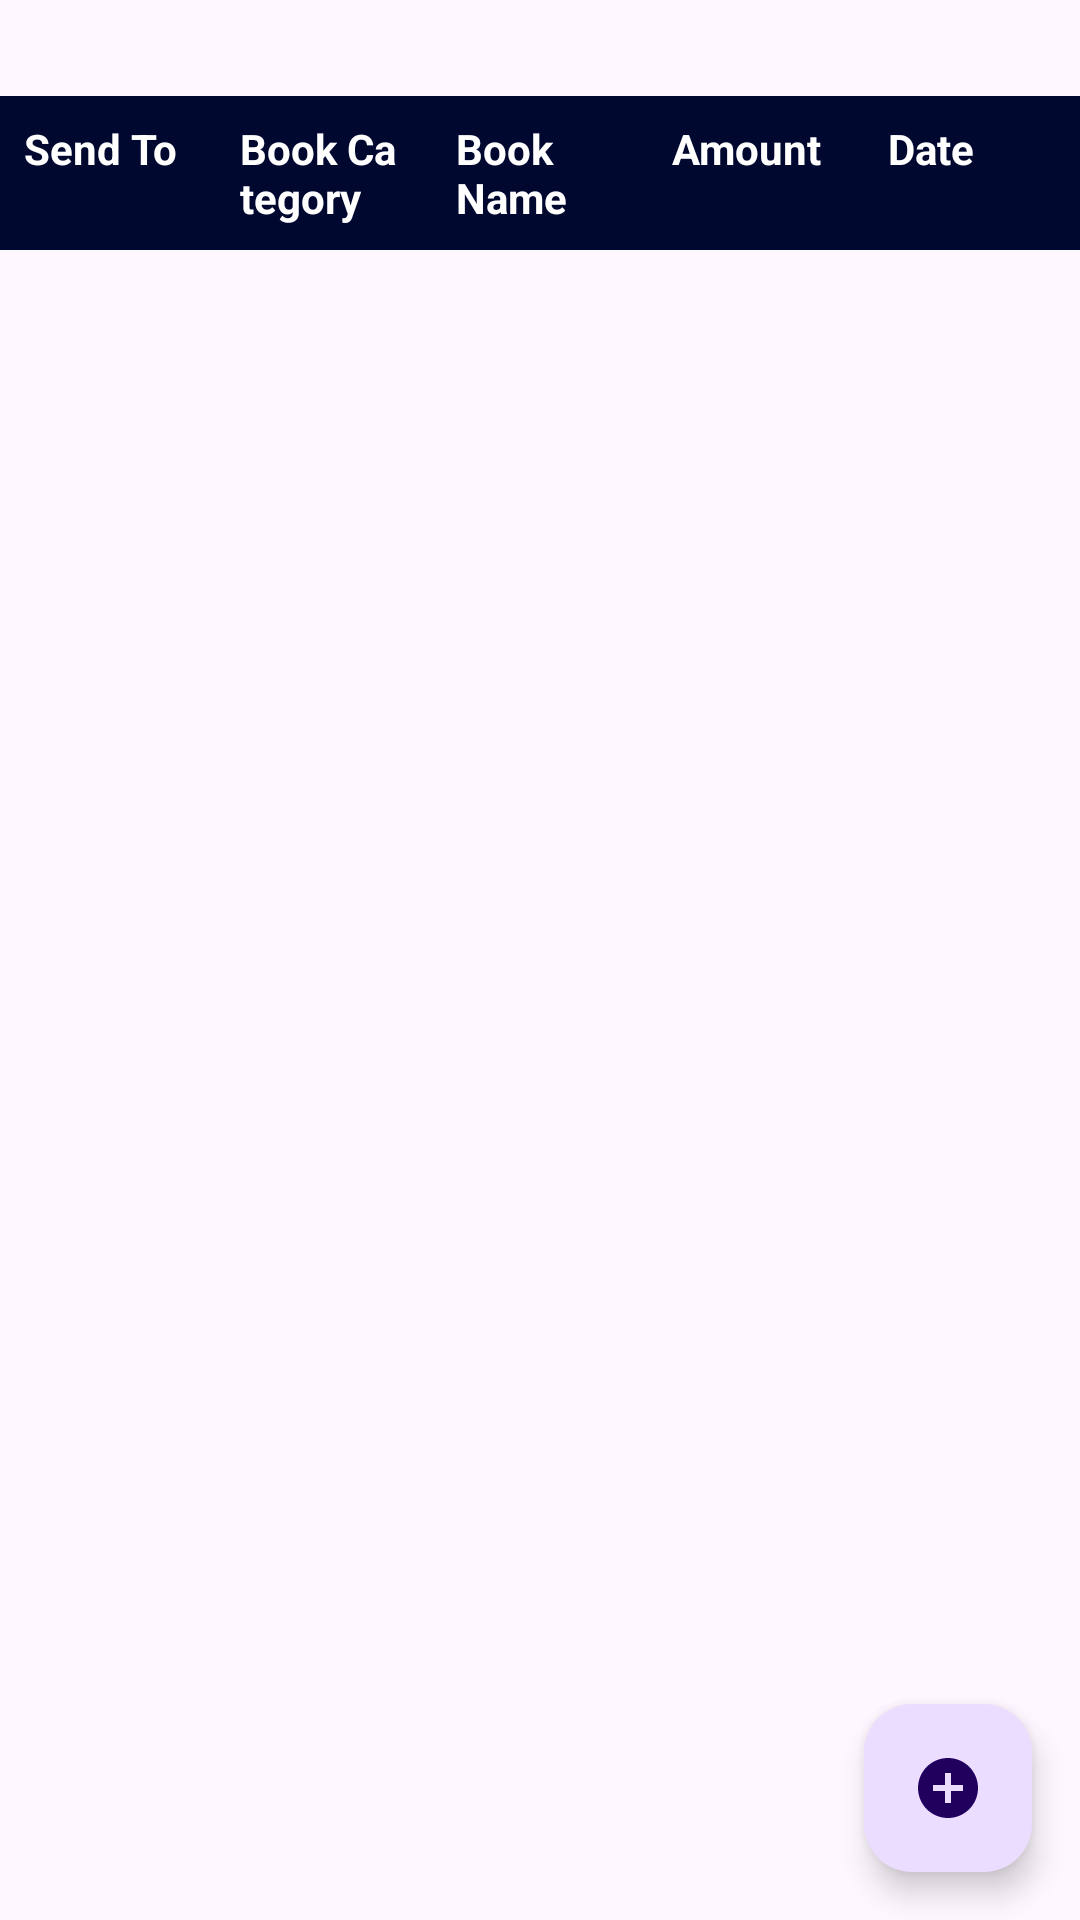

Point at icon controls on the screen. Image size 1080w x 1920h, points as (x,y).
add circle: (948,1788)
